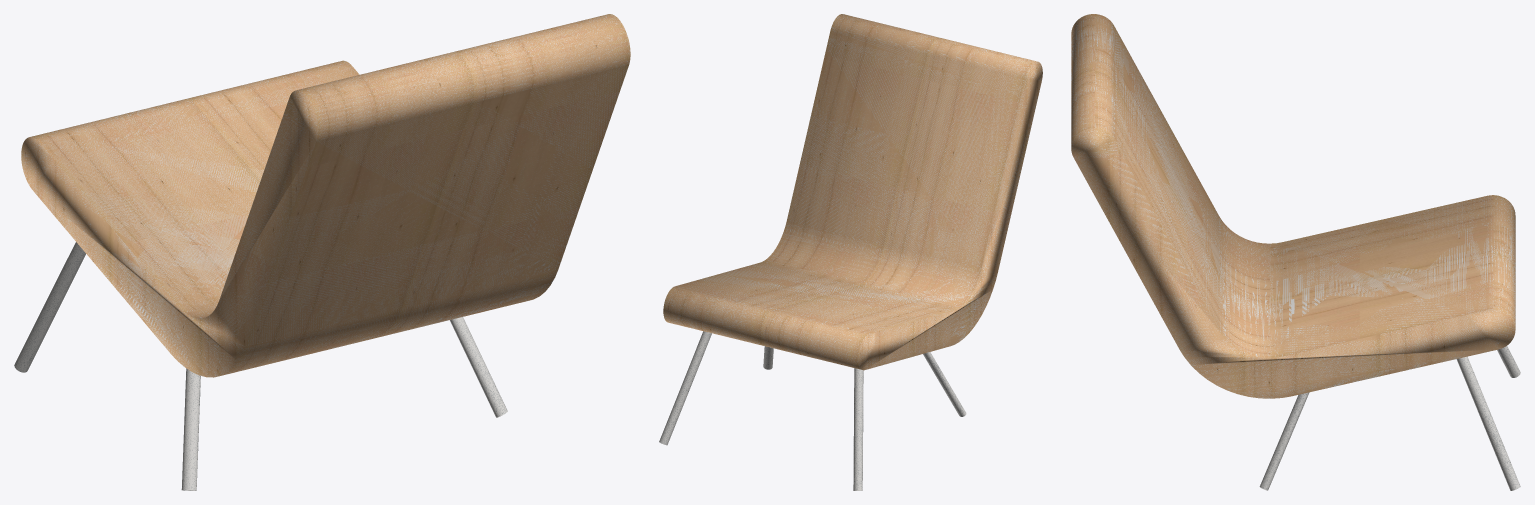
3 views of the same model, side by side, from view 1: azimuth 30°, elevation 25°; view 2: azimuth 150°, elevation 25°; view 3: azimuth 270°, elevation 25° (orthographic). The views are drawn at different scales.
Visible parts, largest first — view 1: mesh1_mesh1-geometry, mesh4_mesh4-geometry, mesh2_mesh2-geometry, mesh3_mesh3-geometry; view 2: mesh1_mesh1-geometry, mesh4_mesh4-geometry, mesh5_mesh5-geometry, mesh2_mesh2-geometry; view 3: mesh1_mesh1-geometry, mesh5_mesh5-geometry, mesh3_mesh3-geometry.
Boxes of the visible parts, <box> form: mesh1_mesh1-geometry: <box>21,14,630,377</box>; mesh4_mesh4-geometry: <box>14,242,85,372</box>; mesh2_mesh2-geometry: <box>181,368,200,490</box>; mesh3_mesh3-geometry: <box>450,317,507,417</box>; mesh1_mesh1-geometry: <box>663,14,1042,370</box>; mesh4_mesh4-geometry: <box>853,368,863,490</box>; mesh5_mesh5-geometry: <box>659,331,711,445</box>; mesh2_mesh2-geometry: <box>923,352,966,416</box>; mesh1_mesh1-geometry: <box>1071,14,1515,398</box>; mesh5_mesh5-geometry: <box>1456,356,1520,490</box>; mesh3_mesh3-geometry: <box>1259,392,1309,490</box>.
Bounding box in the file's own units: 0.4234 × 0.6023 × 0.6768.
